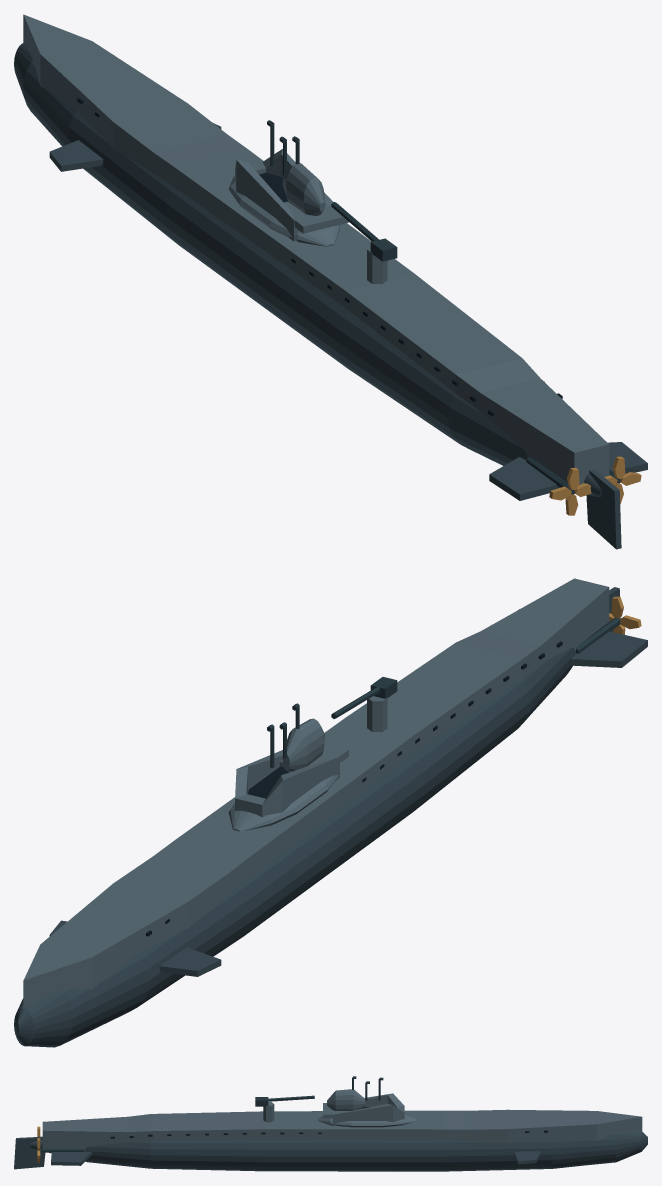
Rendered from archive-gato.glb.
3 views of the same model, one above another, from view 1: azimuth 30°, elevation 25°; view 2: azimuth 150°, elevation 25°; view 3: azimuth 270°, elevation 25° (orthographic). The views are drawn at different scales.
Parts seen in each view (by area): view 1: archive-gato-cruise_deck.002-geometry, archive-gato-pressure_hull.002-geometry, archive-gato-submarine_sail.002-geometry, archive-gato-steering_rudder_0.001-geometry, archive-gato-stern_plane_-1.002-geometry, archive-gato-periscopeHousing-geometry, archive-gato-lowerFairwater-geometry, archive-gato-deck_gun.001-geometry, archive-gato-archive-gato-geometry, archive-gato-screw_0.002-geometry, archive-gato-diving_plane_-1.002-geometry, archive-gato-stern_plane_1.002-geometry; view 2: archive-gato-cruise_deck.002-geometry, archive-gato-pressure_hull.002-geometry, archive-gato-submarine_sail.002-geometry, archive-gato-stern_plane_-1.002-geometry, archive-gato-periscopeHousing-geometry, archive-gato-lowerFairwater-geometry, archive-gato-deck_gun.001-geometry, archive-gato-diving_plane_-1.002-geometry, archive-gato-screw_0.002-geometry, archive-gato-archive-gato-geometry; view 3: archive-gato-pressure_hull.002-geometry, archive-gato-cruise_deck.002-geometry, archive-gato-submarine_sail.002-geometry, archive-gato-steering_rudder_0.001-geometry, archive-gato-periscopeHousing-geometry, archive-gato-lowerFairwater-geometry, archive-gato-stern_plane_1.002-geometry, archive-gato-deck_gun.001-geometry, archive-gato-archive-gato-geometry, archive-gato-diving_plane_1.002-geometry, archive-gato-screw_1.002-geometry.
Boxes of the visible parts, x1,y1,x2,y2 form: archive-gato-cruise_deck.002-geometry: (23, 14, 609, 484); archive-gato-pressure_hull.002-geometry: (14, 43, 601, 496); archive-gato-submarine_sail.002-geometry: (235, 120, 339, 241); archive-gato-steering_rudder_0.001-geometry: (586, 469, 621, 549); archive-gato-stern_plane_-1.002-geometry: (489, 457, 559, 500); archive-gato-periscopeHousing-geometry: (282, 163, 324, 215); archive-gato-lowerFairwater-geometry: (228, 176, 340, 246); archive-gato-deck_gun.001-geometry: (331, 202, 397, 283); archive-gato-archive-gato-geometry: (77, 98, 562, 415); archive-gato-screw_0.002-geometry: (526, 457, 591, 515); archive-gato-diving_plane_-1.002-geometry: (49, 140, 103, 171); archive-gato-stern_plane_1.002-geometry: (608, 442, 647, 473); archive-gato-cruise_deck.002-geometry: (23, 578, 609, 1008); archive-gato-pressure_hull.002-geometry: (14, 647, 575, 1047); archive-gato-submarine_sail.002-geometry: (235, 703, 339, 817); archive-gato-stern_plane_-1.002-geometry: (570, 631, 647, 667); archive-gato-periscopeHousing-geometry: (282, 718, 324, 772); archive-gato-lowerFairwater-geometry: (228, 772, 340, 831); archive-gato-deck_gun.001-geometry: (331, 677, 397, 731); archive-gato-diving_plane_-1.002-geometry: (159, 947, 221, 976); archive-gato-screw_0.002-geometry: (576, 596, 641, 653); archive-gato-archive-gato-geometry: (146, 641, 562, 936); archive-gato-pressure_hull.002-geometry: (30, 1131, 647, 1171); archive-gato-cruise_deck.002-geometry: (42, 1109, 642, 1150); archive-gato-submarine_sail.002-geometry: (332, 1076, 404, 1125); archive-gato-steering_rudder_0.001-geometry: (14, 1136, 45, 1169); archive-gato-periscopeHousing-geometry: (327, 1089, 364, 1110); archive-gato-lowerFairwater-geometry: (318, 1113, 417, 1127); archive-gato-stern_plane_1.002-geometry: (51, 1151, 91, 1165); archive-gato-deck_gun.001-geometry: (255, 1095, 314, 1122); archive-gato-archive-gato-geometry: (110, 1103, 547, 1138); archive-gato-diving_plane_1.002-geometry: (514, 1151, 541, 1164); archive-gato-screw_1.002-geometry: (37, 1138, 83, 1162).
Size of the model in its own units: 1.53 by 1.6 by 9.95.
